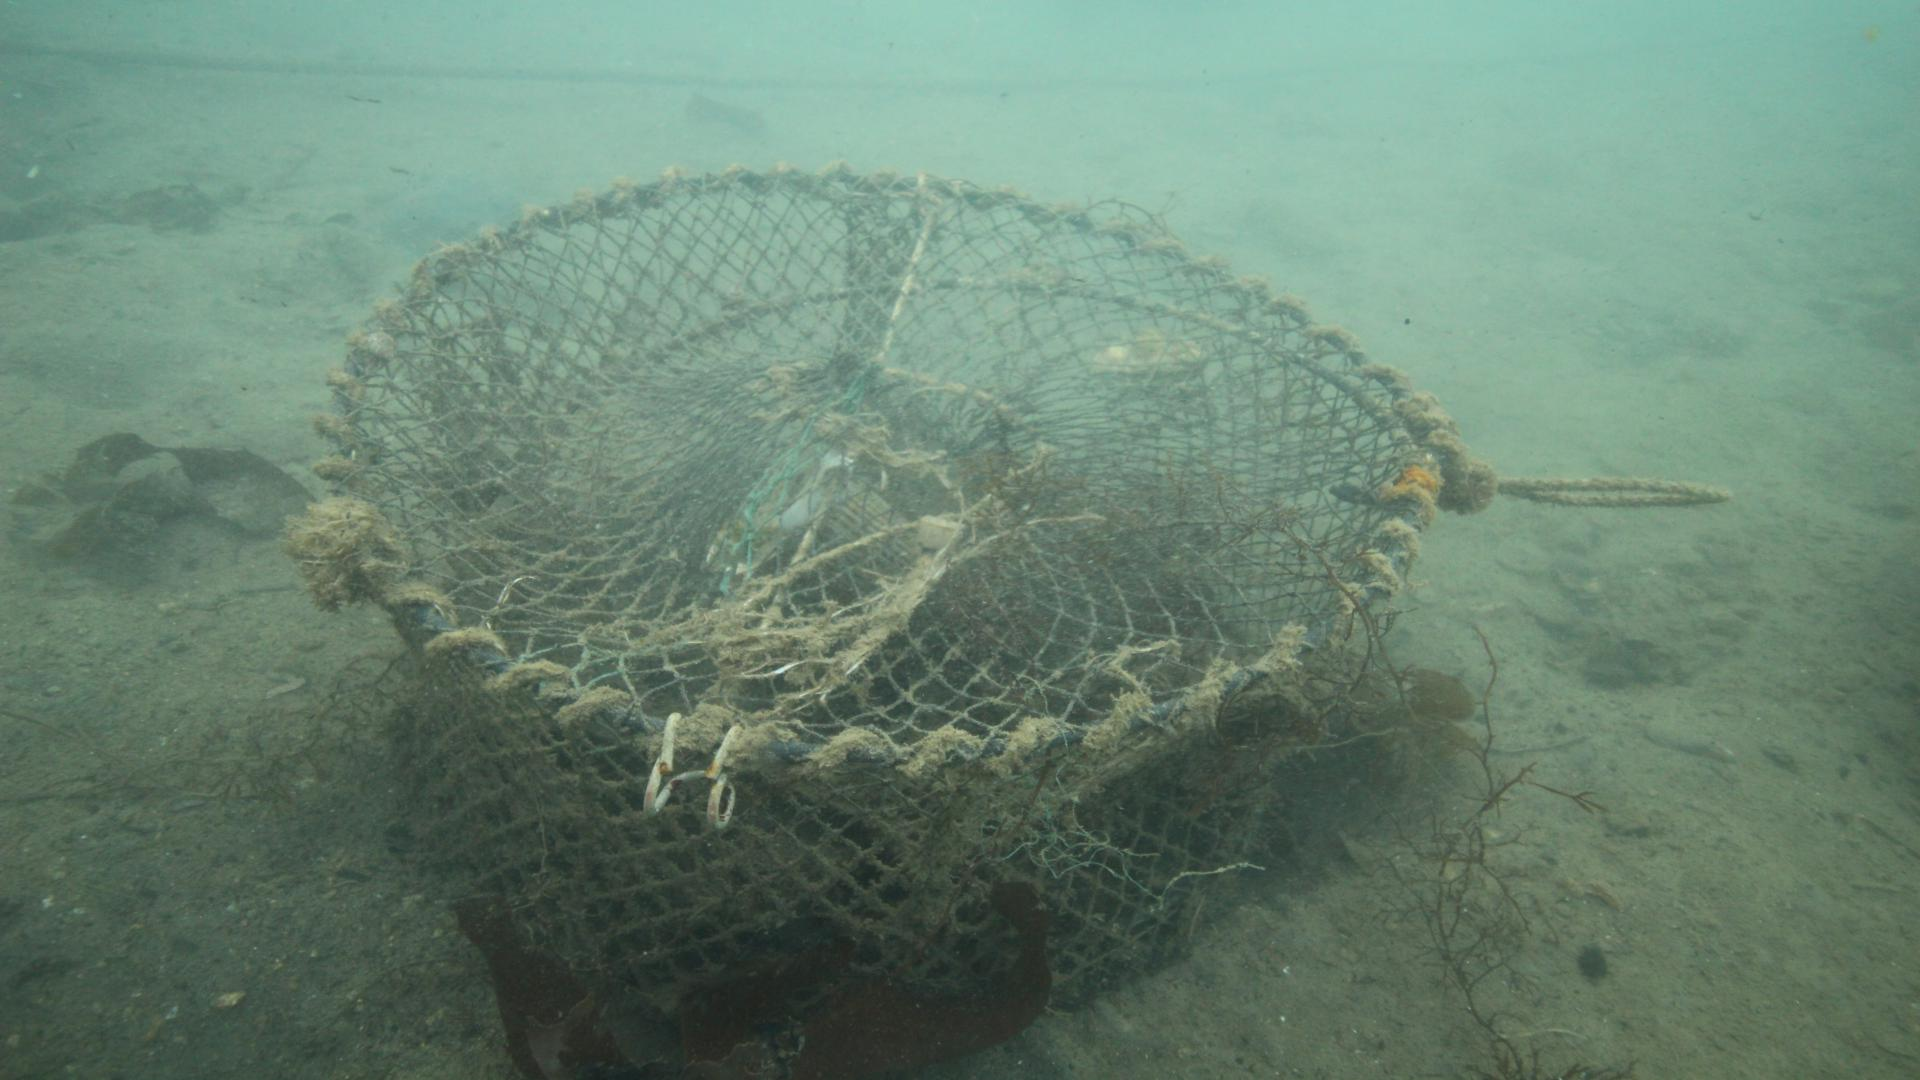circular fish trap: (309, 158, 1460, 1022)
rope: (1472, 476, 1735, 512)
